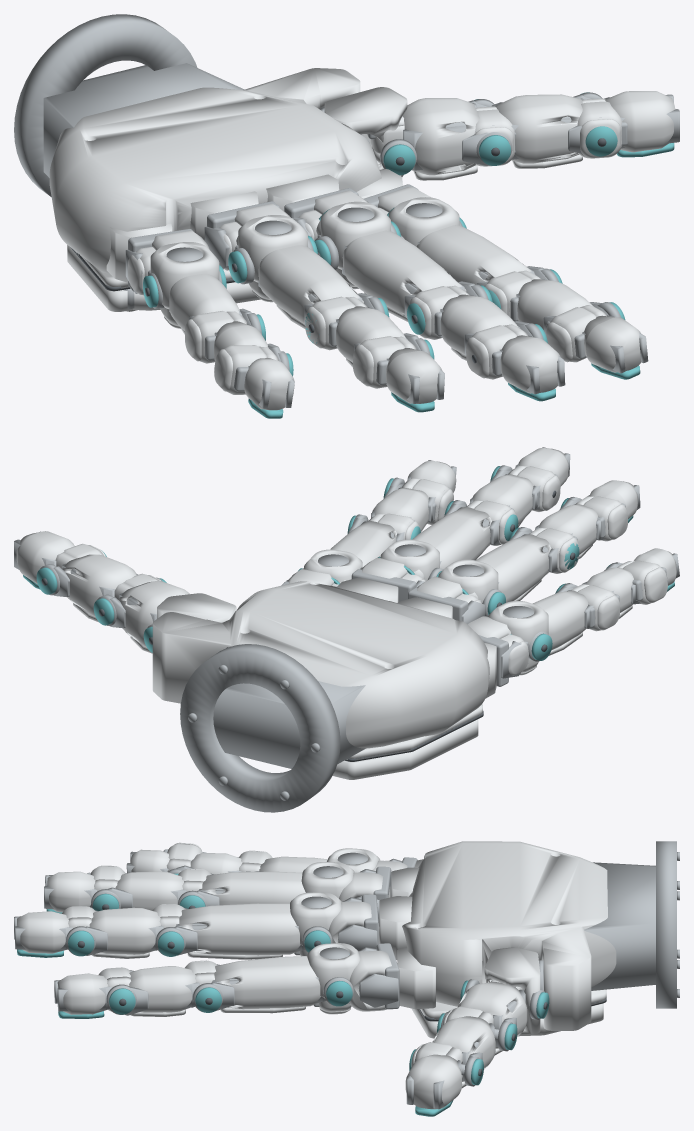
File: aster20.glb
3 renders of one model, top to bottom at view 1: azimuth 30°, elevation 25°; view 2: azimuth 150°, elevation 25°; view 3: azimuth 270°, elevation 25°, orthographic. The views are drawn at different scales.
Visible parts, largest first — view 1: visual__central_palm__1, visual__central_palm__0, visual__middle_proximal__0, visual__thumb_proximal__0, visual__ring_proximal__0, visual__thumb_metacarpal__0, visual__index_proximal__0, visual__middle_middle__0, visual__index_middle__0, visual__little_proximal__0, visual__ring_middle__0, visual__thumb_oppose_link__1 (+28 smaller); view 2: visual__central_palm__1, visual__central_palm__0, visual__ring_proximal__0, visual__middle_proximal__0, visual__little_proximal__0, visual__thumb_proximal__0, visual__ring_middle__0, visual__middle_middle__0, visual__thumb_metacarpal__0, visual__little_middle__0, visual__index_middle__0, visual__index_proximal__0 (+17 smaller); view 3: visual__central_palm__1, visual__central_palm__0, visual__middle_proximal__0, visual__index_proximal__0, visual__ring_proximal__0, visual__middle_middle__0, visual__index_middle__0, visual__thumb_proximal__0, visual__ring_middle__0, visual__thumb_oppose_link__1, visual__thumb_metacarpal__0, visual__thumb_distal__0 (+33 smaller).
Boxes of the visible parts, left/top/right/bottom form: visual__central_palm__1: left=49, top=68, right=402, bottom=311; visual__central_palm__0: left=14, top=14, right=324, bottom=309; visual__middle_proximal__0: left=342, top=230, right=469, bottom=339; visual__thumb_proximal__0: left=495, top=94, right=622, bottom=168; visual__ring_proximal__0: left=258, top=245, right=367, bottom=350; visual__thumb_metacarpal__0: left=403, top=98, right=514, bottom=180; visual__index_proximal__0: left=416, top=225, right=541, bottom=317; visual__middle_middle__0: left=440, top=294, right=527, bottom=379; visual__index_middle__0: left=517, top=279, right=606, bottom=362; visual__little_proximal__0: left=169, top=274, right=246, bottom=363; visual__ring_middle__0: left=336, top=306, right=416, bottom=388; visual__thumb_oppose_link__1: left=324, top=87, right=407, bottom=176; visual__central_palm__1: left=152, top=577, right=496, bottom=779; visual__central_palm__0: left=180, top=644, right=365, bottom=812; visual__ring_proximal__0: left=476, top=527, right=579, bottom=602; visual__middle_proximal__0: left=412, top=500, right=515, bottom=569; visual__little_proximal__0: left=532, top=584, right=619, bottom=655; visual__thumb_proximal__0: left=55, top=543, right=136, bottom=622; visual__ring_middle__0: left=539, top=496, right=627, bottom=558; visual__middle_middle__0: left=472, top=465, right=560, bottom=527; visual__thumb_metacarpal__0: left=114, top=573, right=189, bottom=653; visual__little_middle__0: left=585, top=560, right=667, bottom=618; visual__index_middle__0: left=372, top=478, right=453, bottom=531; visual__index_proximal__0: left=330, top=513, right=419, bottom=566; visual__central_palm__1: left=379, top=841, right=616, bottom=1038; visual__central_palm__0: left=539, top=841, right=679, bottom=1008; visual__middle_proximal__0: left=152, top=903, right=300, bottom=959; visual__index_proximal__0: left=185, top=956, right=320, bottom=1013; visual__ring_proximal__0: left=178, top=868, right=305, bottom=905; visual__middle_middle__0: left=62, top=906, right=160, bottom=958; visual__index_middle__0: left=98, top=966, right=196, bottom=1016; visual__thumb_proximal__0: left=411, top=1016, right=495, bottom=1088; visual__ring_middle__0: left=90, top=865, right=183, bottom=910; visual__thumb_oppose_link__1: left=484, top=947, right=540, bottom=1035; visual__thumb_metacarpal__0: left=442, top=982, right=527, bottom=1055; visual__thumb_distal__0: left=405, top=1054, right=462, bottom=1109.
Size of the model in its own units: 0.1938 by 0.056 by 0.2226.
